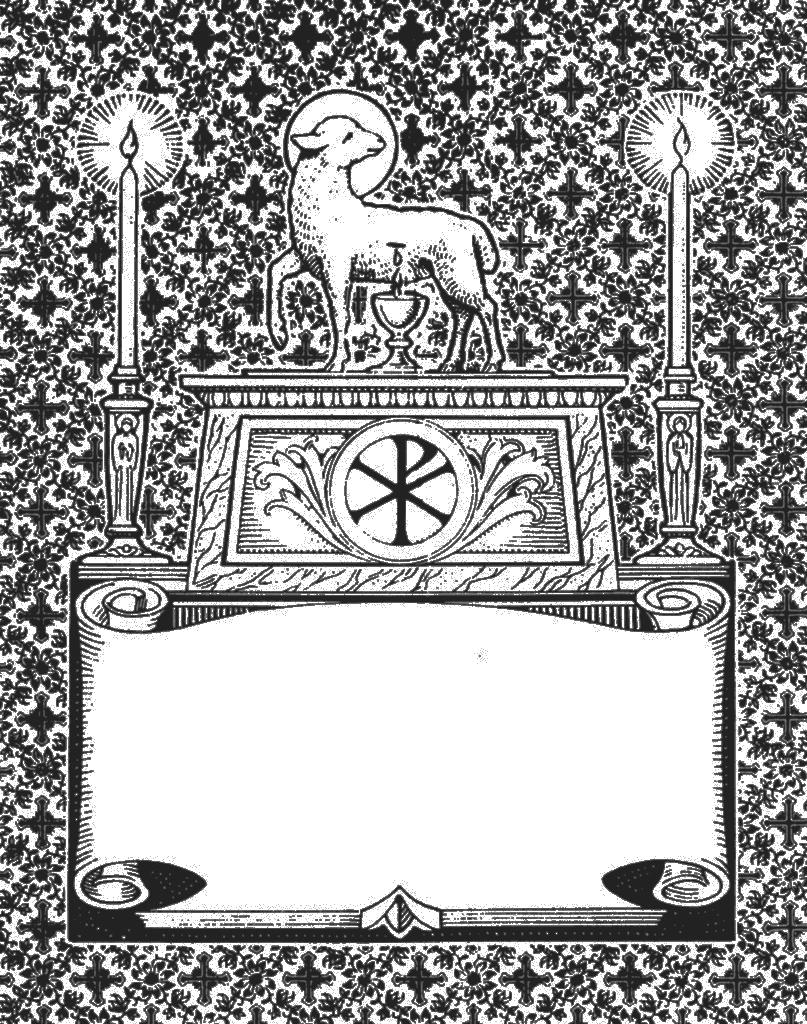Sheep: (268, 118, 501, 372)
